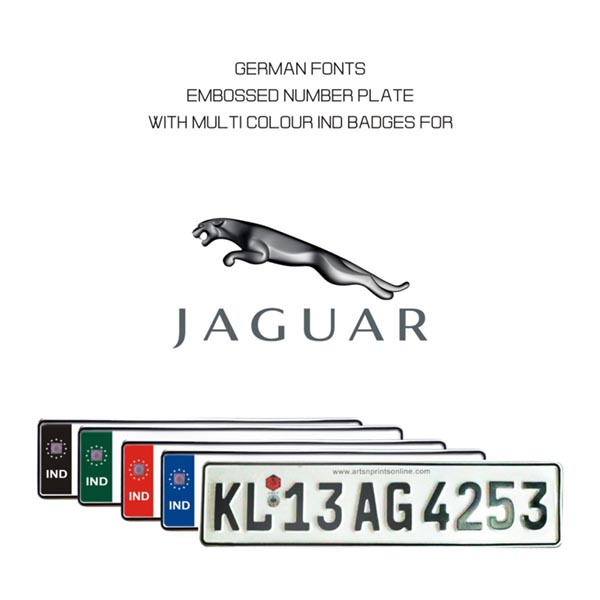number_plate: (201, 461, 563, 547)
